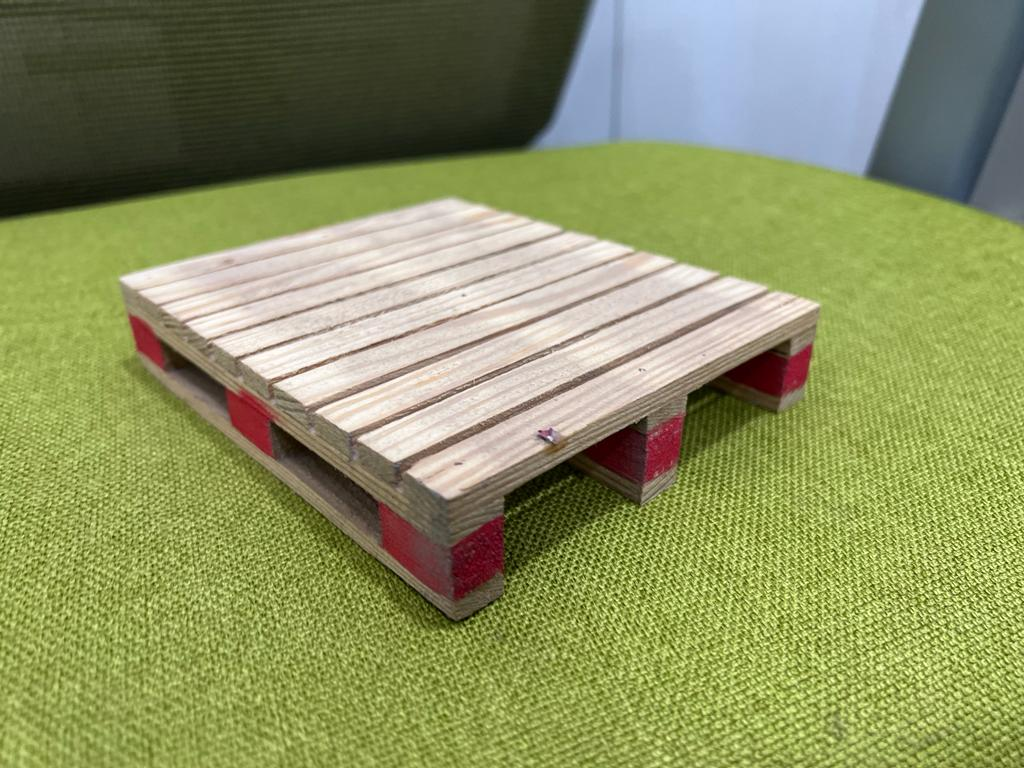pallet: (88, 184, 842, 651)
